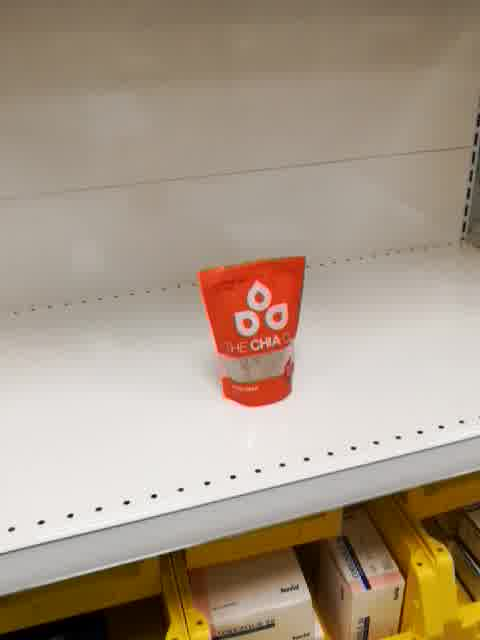whitechia: (198, 253, 308, 408)
